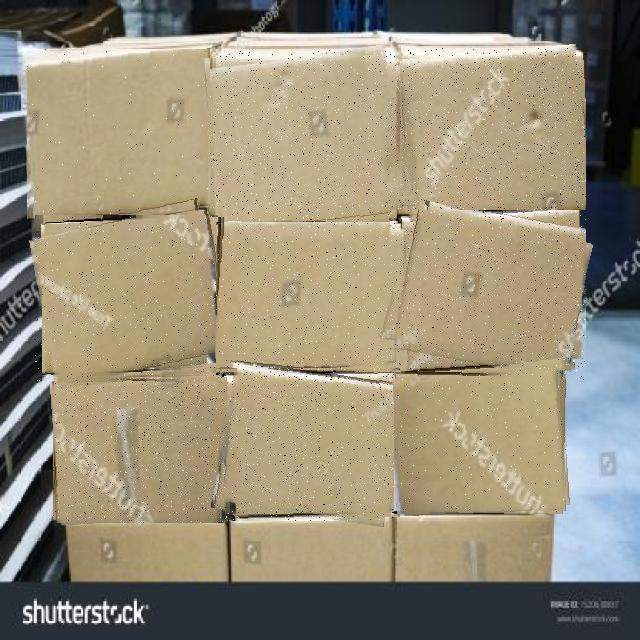BoxFace: (389, 210, 586, 381), (210, 50, 402, 225), (27, 50, 219, 222), (399, 48, 586, 220), (35, 217, 228, 383), (216, 222, 402, 375), (220, 368, 400, 521), (53, 374, 229, 523), (394, 371, 568, 514)
